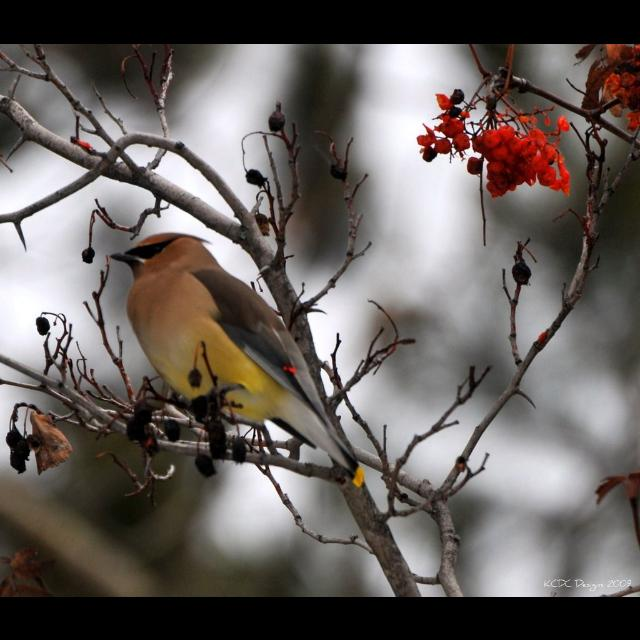Flower: (413, 43, 639, 199)
